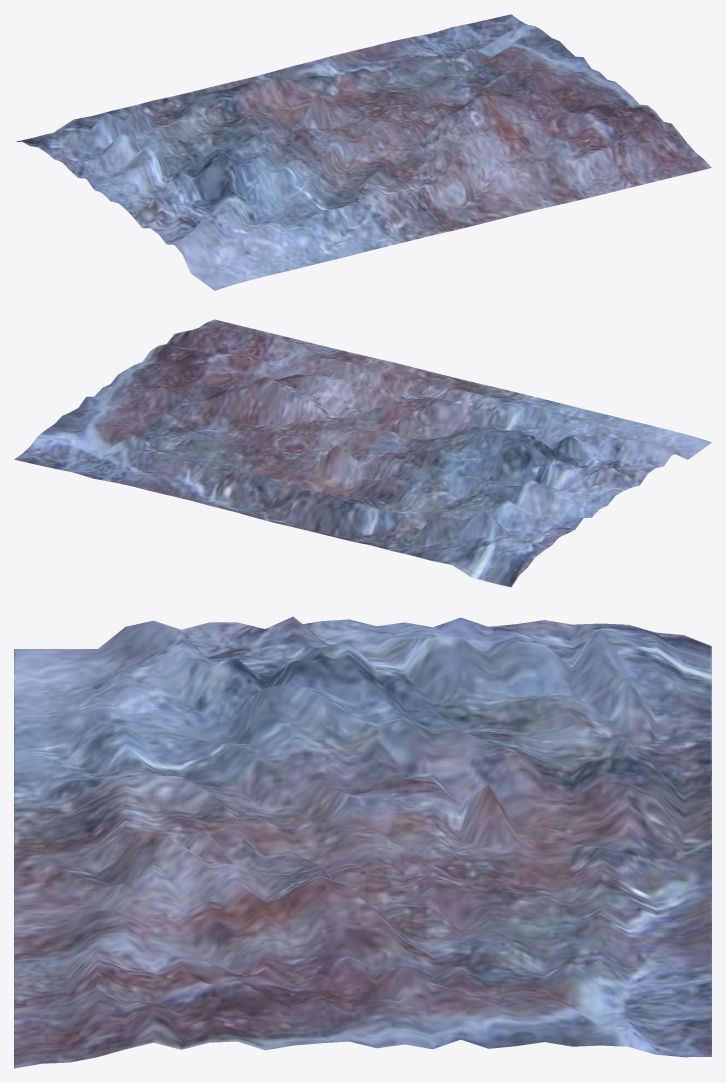
File: BackWorld.FBX
3 renders of one model, top to bottom at view 1: azimuth 30°, elevation 25°; view 2: azimuth 150°, elevation 25°; view 3: azimuth 270°, elevation 25°, orthographic. The views are drawn at different scales.
Visible parts, largest first — view 1: Plane001; view 2: Plane001; view 3: Plane001.
Boxes of the visible parts, x1,y1,x2,y2 form: Plane001: (16,14,711,290); Plane001: (14,319,711,587); Plane001: (14,616,711,1068).
Bounding box in the file's own units: 6759 × 4724 × 560.
Materials: 1 (1 with a texture image).
